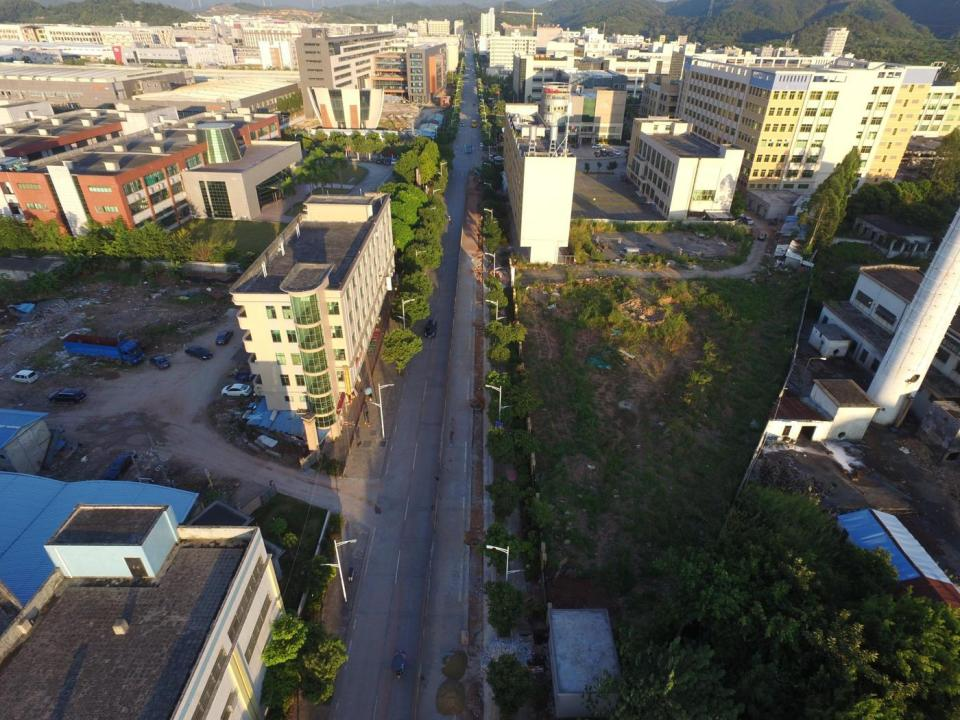bus: (471, 119, 477, 128)
car: (104, 451, 137, 480), (48, 388, 86, 406), (221, 382, 253, 397), (184, 345, 214, 361), (214, 329, 234, 346), (149, 354, 170, 370), (424, 318, 437, 338), (742, 215, 754, 226), (494, 155, 506, 163), (482, 153, 490, 164), (734, 210, 744, 217), (591, 143, 602, 149), (758, 232, 766, 240), (600, 148, 607, 156), (376, 158, 383, 165), (384, 158, 391, 165), (594, 150, 601, 157), (390, 159, 398, 165), (570, 143, 578, 149), (614, 150, 620, 156), (607, 151, 614, 156), (460, 121, 464, 127), (479, 142, 483, 147)
truck: (466, 144, 472, 154)
van: (10, 370, 38, 384)
